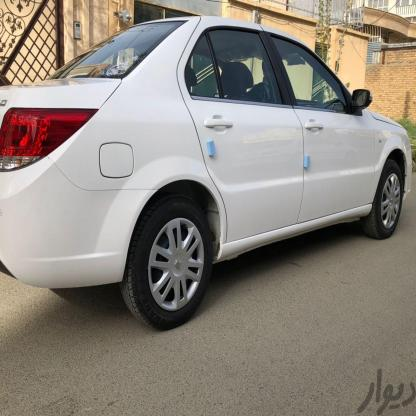Car: (0, 7, 416, 318)
